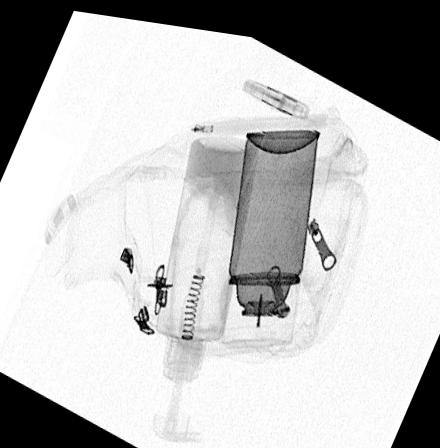Sprayer: (221, 121, 320, 336)
